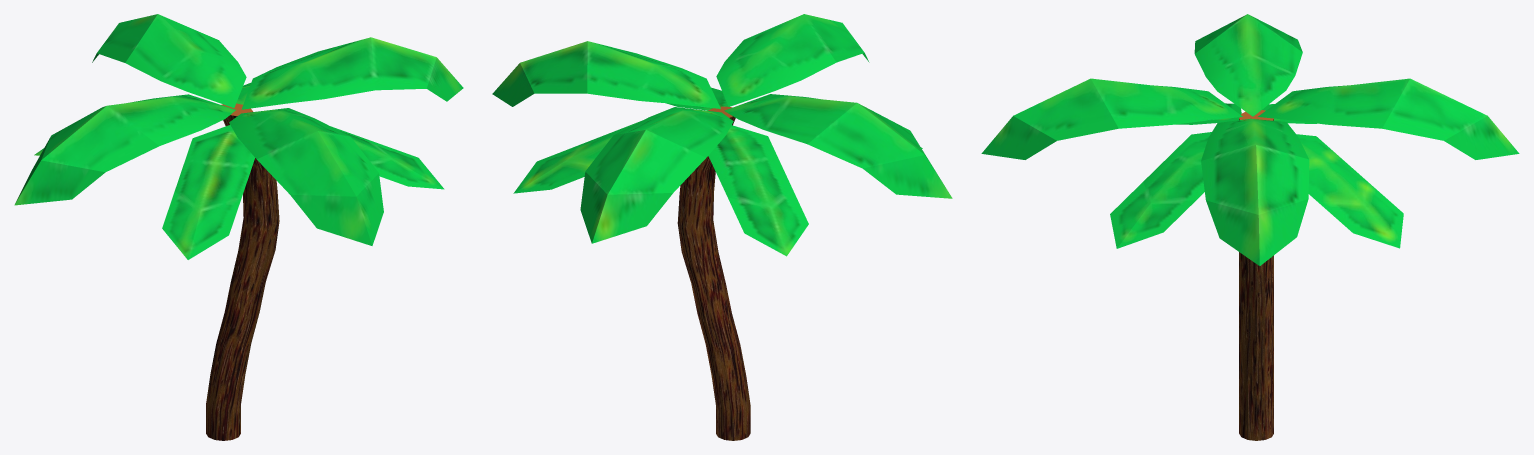
File: palm.obj
The picture shows the model from 3 angles, left to right: view 1: azimuth 30°, elevation 25°; view 2: azimuth 150°, elevation 25°; view 3: azimuth 270°, elevation 25°; orthographic projection.
Parts seen in each view (by area): view 1: pPlane3, pPlane4, tube, pPlane5, pPlane2, pPlane7, pPlane8; view 2: pPlane2, pPlane4, tube, pPlane5, pPlane3, pPlane9, pPlane6; view 3: pPlane5, pPlane3, pPlane2, pPlane4, tube, pPlane8, pPlane6.
Boxes of the visible parts, bbox=[...] form: pPlane3: bbox=[229, 108, 383, 245]; pPlane4: bbox=[14, 94, 235, 205]; tube: bbox=[206, 103, 279, 440]; pPlane5: bbox=[241, 37, 463, 109]; pPlane2: bbox=[92, 14, 246, 107]; pPlane7: bbox=[162, 125, 254, 259]; pPlane8: bbox=[330, 126, 444, 189]; pPlane2: bbox=[580, 107, 733, 243]; pPlane4: bbox=[724, 94, 952, 198]; tube: bbox=[677, 106, 750, 440]; pPlane5: bbox=[492, 41, 720, 108]; pPlane3: bbox=[716, 14, 869, 106]; pPlane9: bbox=[708, 125, 808, 256]; pPlane6: bbox=[513, 121, 640, 193]; pPlane5: bbox=[1201, 118, 1309, 265]; pPlane3: bbox=[981, 78, 1242, 159]; pPlane2: bbox=[1258, 78, 1519, 159]; pPlane4: bbox=[1194, 14, 1302, 116]; tube: bbox=[1239, 110, 1273, 440]; pPlane8: bbox=[1110, 132, 1211, 248]; pPlane6: bbox=[1296, 134, 1403, 248].
Bounding box in the file's own units: 7.66 × 5.77 × 7.81.
1 material, 1 textured.
